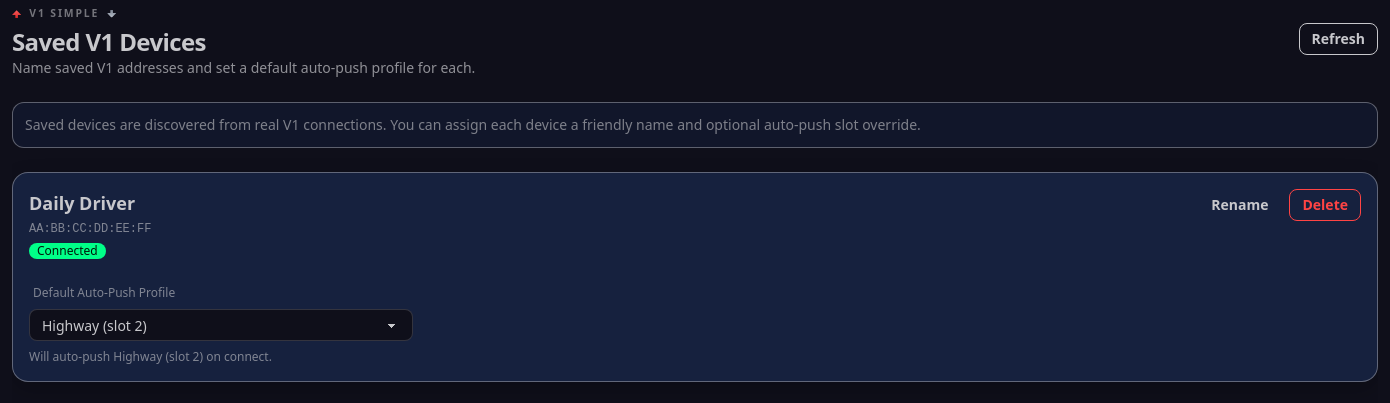
Test: devices route page › loads saved devices and opens the rename form
This screenshot has width=1390, height=403.
Expected: the heading "Saved V1 Devices" is shown, [12, 25, 206, 58]
Expected: the heading "Daily Driver" is shown, [29, 189, 151, 217]
Click the button "Rename": (1240, 205) [1198, 189, 1282, 221]
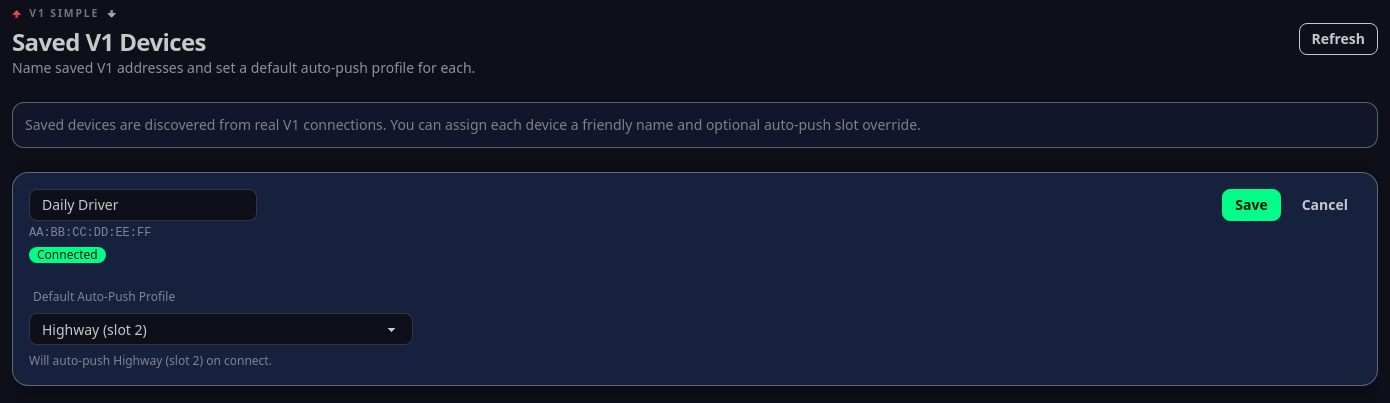
Result: the field showing "Daily Driver" is shown at [29, 189, 257, 221]
Result: the button "Save" is shown at [1222, 189, 1281, 221]
